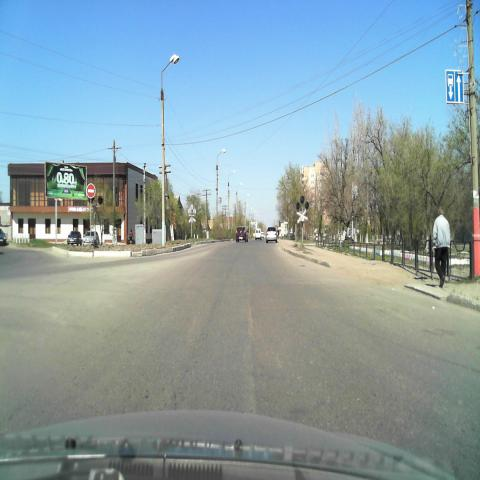5_11: (446, 68, 464, 104)
